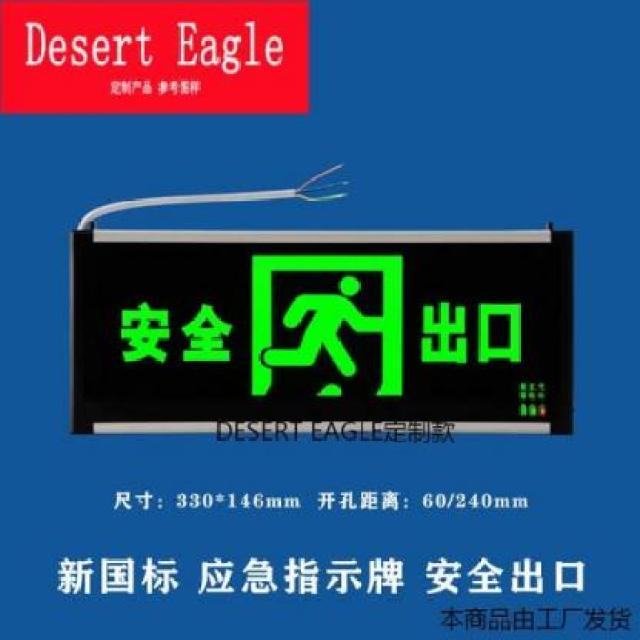exit_sign: (77, 229, 560, 426)
